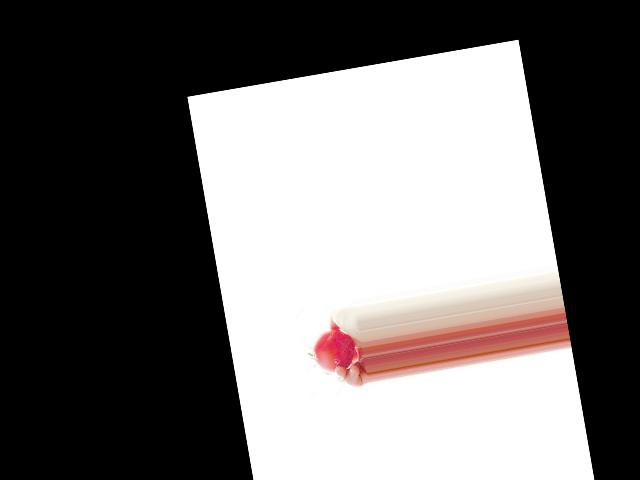tomato: (308, 326, 358, 377)
